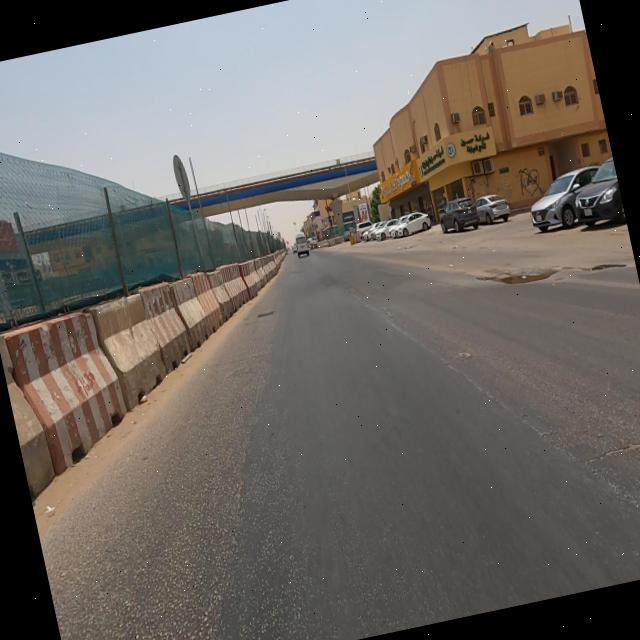Graffiti: (72, 365, 101, 400), (517, 164, 544, 197)
